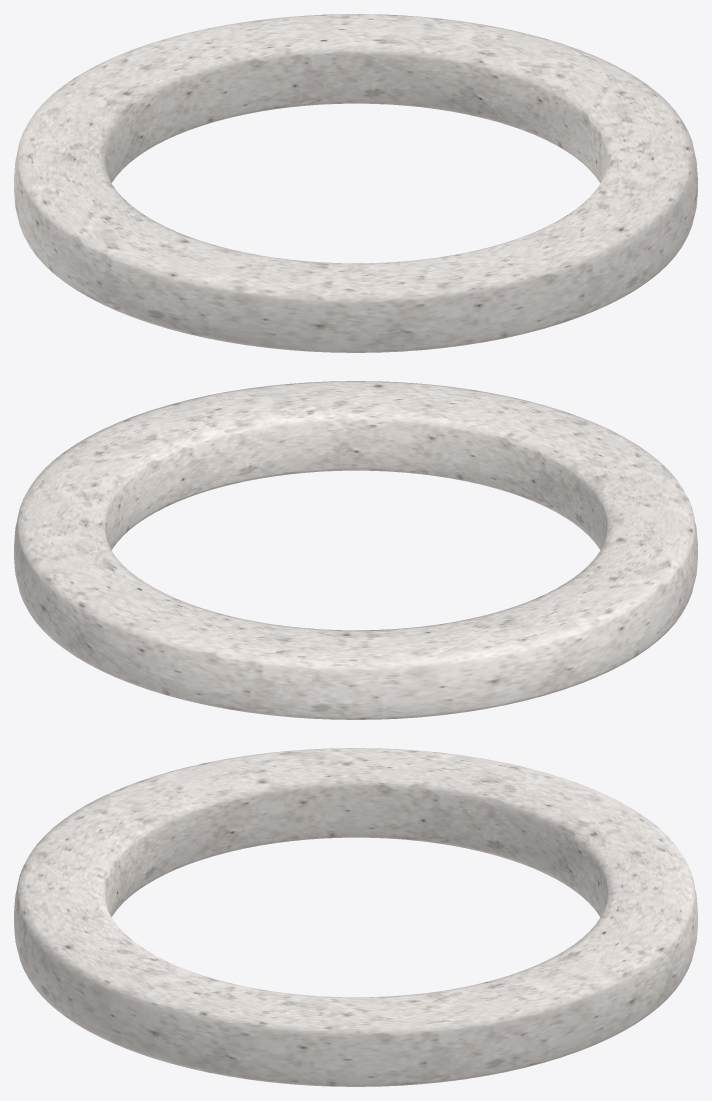
The model's file is yinsh-ring-white.glb.
3 views of the same model, one above another, from view 1: azimuth 30°, elevation 25°; view 2: azimuth 150°, elevation 25°; view 3: azimuth 270°, elevation 25° (orthographic).
Parts seen in each view (by area): view 1: yinsh-ring-white; view 2: yinsh-ring-white; view 3: yinsh-ring-white.
Boxes of the visible parts, <box> form: yinsh-ring-white: <box>14,14,697,352</box>; yinsh-ring-white: <box>14,381,697,719</box>; yinsh-ring-white: <box>14,748,697,1086</box>.
Size of the model in its own units: 0.032 by 0.00306 by 0.032.
Materials: 1 (1 with a texture image).
